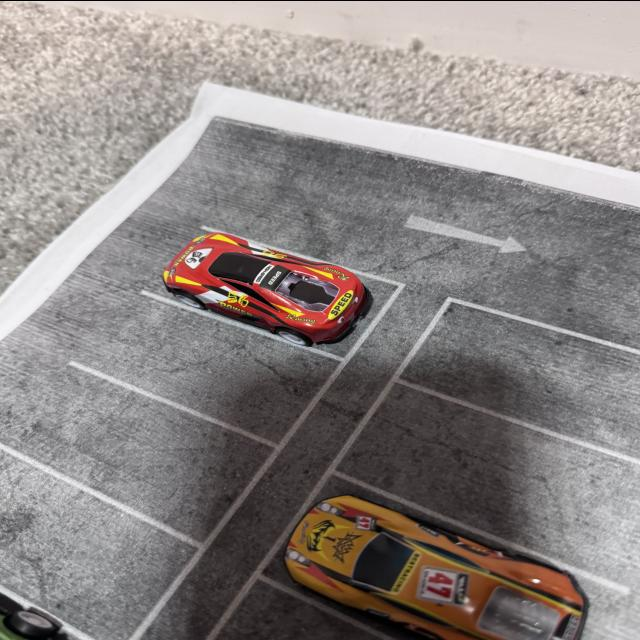car: (244, 506, 600, 636), (136, 246, 370, 350)
